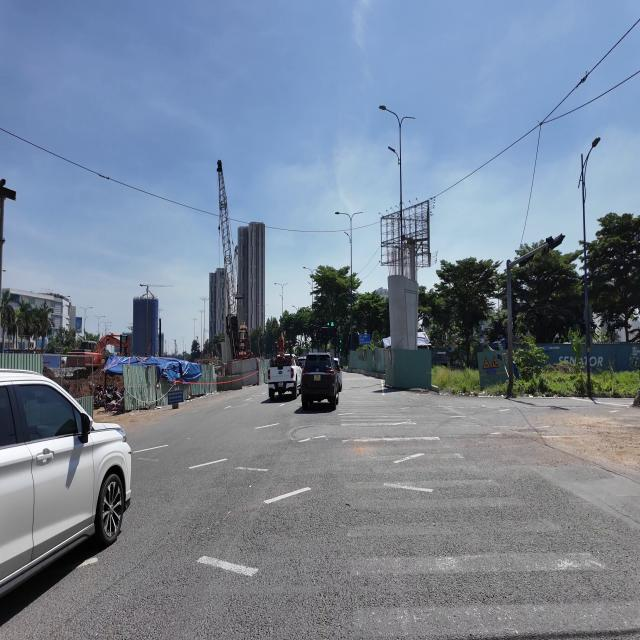car: (0, 370, 131, 595), (300, 353, 339, 410), (268, 354, 301, 400), (334, 358, 342, 392)
